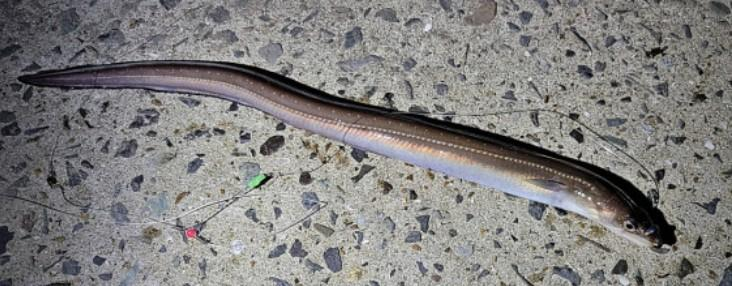fish: (18, 60, 674, 247)
